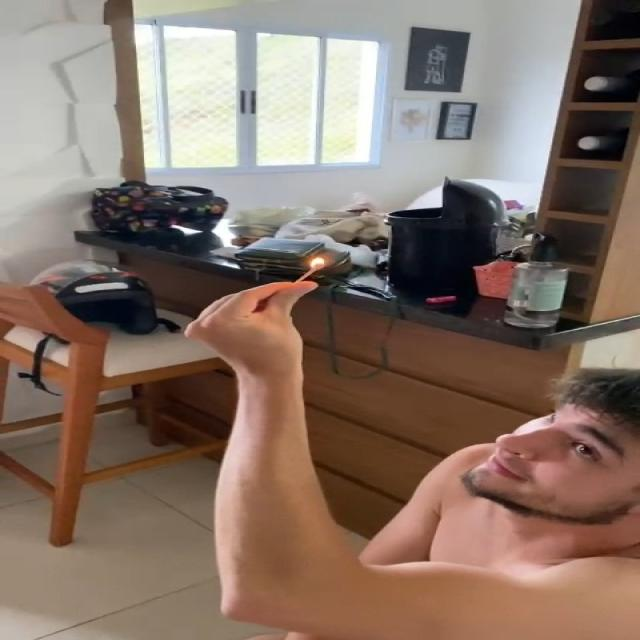fogo-ypXI: (306, 253, 332, 271)
